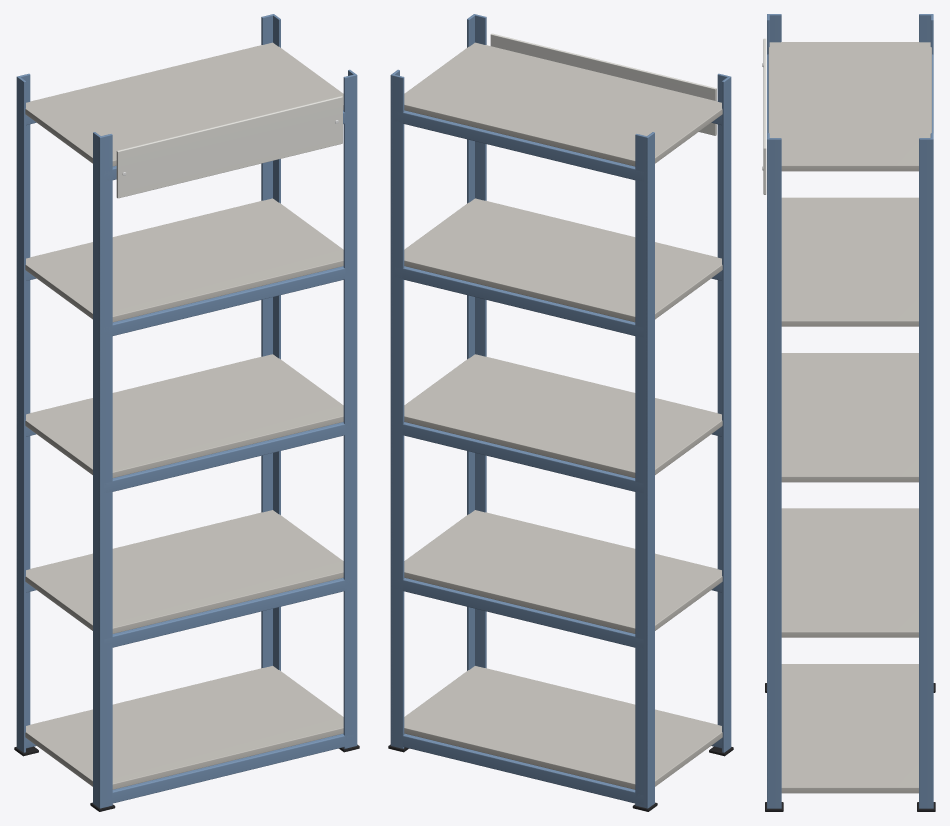
Rendered from shelf_compact.glb.
3 renders of one model, left to right at view 1: azimuth 30°, elevation 25°; view 2: azimuth 150°, elevation 25°; view 3: azimuth 270°, elevation 25°, orthographic.
Parts seen in each view (by area): view 1: SM_shelf_compact; view 2: SM_shelf_compact; view 3: SM_shelf_compact.
Part boxes in pixels (x1=…): SM_shelf_compact: x1=14, y1=14, x2=359, y2=811; SM_shelf_compact: x1=388, y1=14, x2=733, y2=811; SM_shelf_compact: x1=762, y1=14, x2=935, y2=811.
Bounding box in the file's own units: 0.81 × 2 × 0.467.
